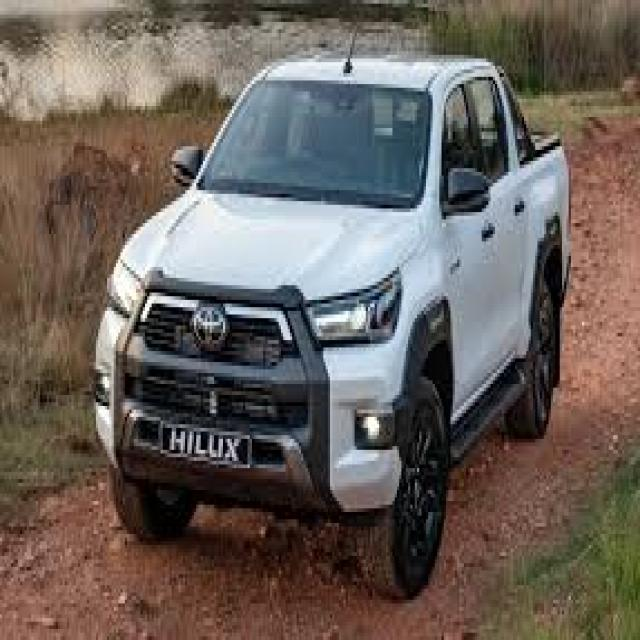Pickup Trucks: (96, 58, 573, 600)
